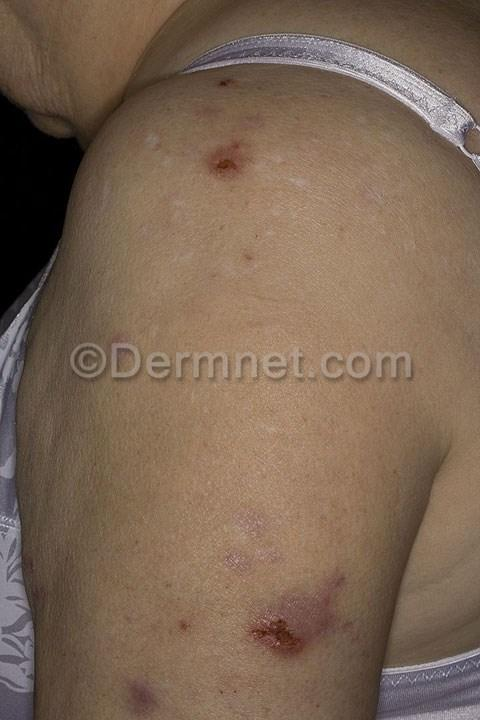Eczema: (230, 587, 357, 660), (209, 494, 309, 576), (198, 133, 264, 191), (159, 186, 209, 261), (114, 661, 173, 698), (227, 240, 276, 281), (283, 158, 327, 198), (252, 202, 306, 234), (158, 605, 203, 643), (131, 124, 178, 159), (356, 172, 392, 204), (208, 73, 245, 99)
